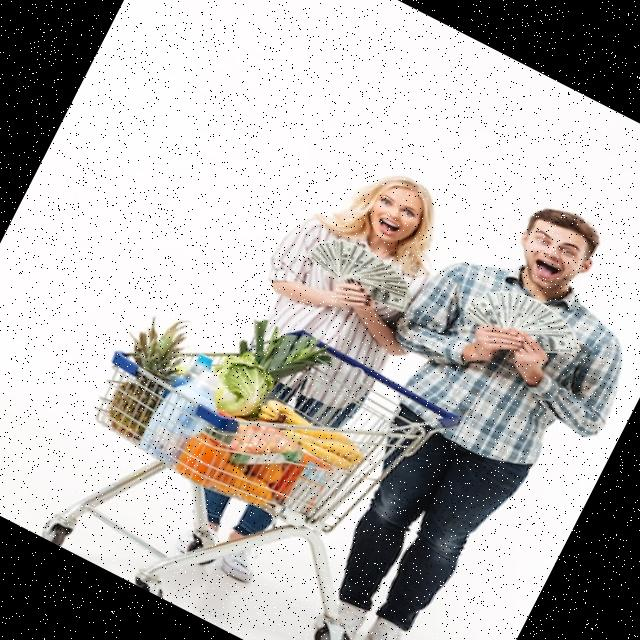Person: (255, 163, 640, 640), (132, 138, 479, 603)
